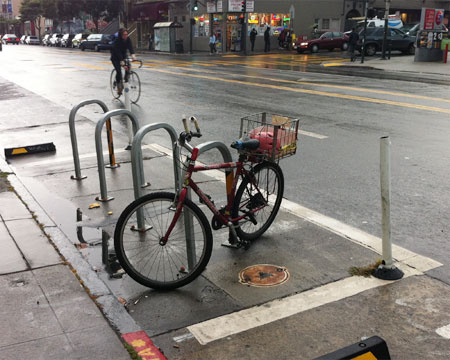bike: (104, 106, 305, 286)
